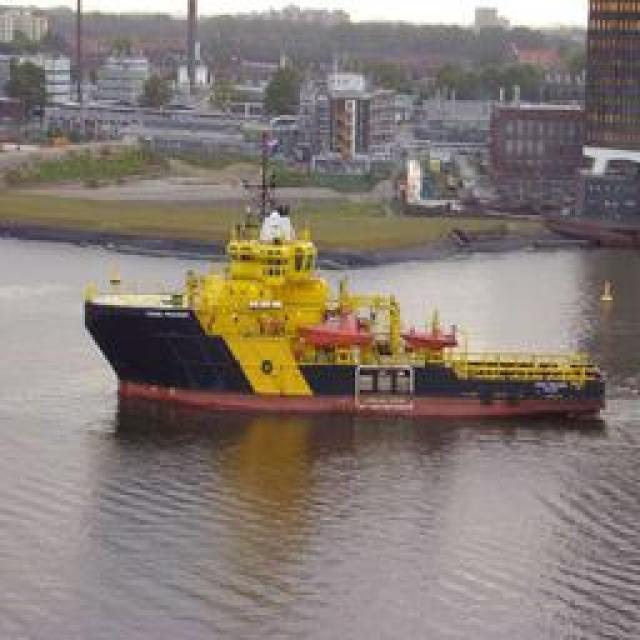CIV_Ship: (75, 212, 600, 418)
